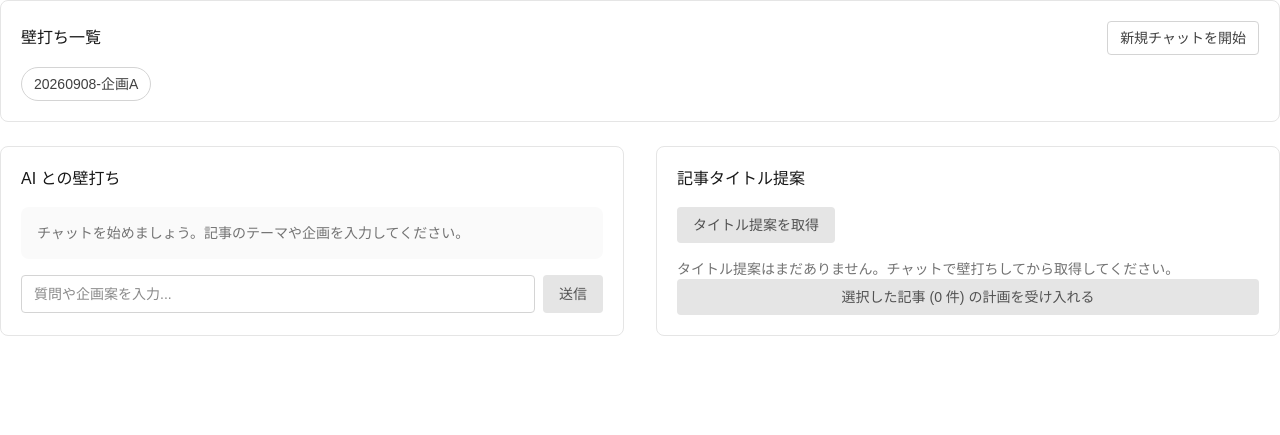
Test: ArticlePlanWorkspace: チャット › セッション一覧の取り直しに失敗しても、返答は表示し、一覧は前のまま
The image size is (1280, 435).
Type "こんにちは" into the field with placeholder "質問や企画案を入力...". click: (278, 294)
box: [21, 275, 535, 313]
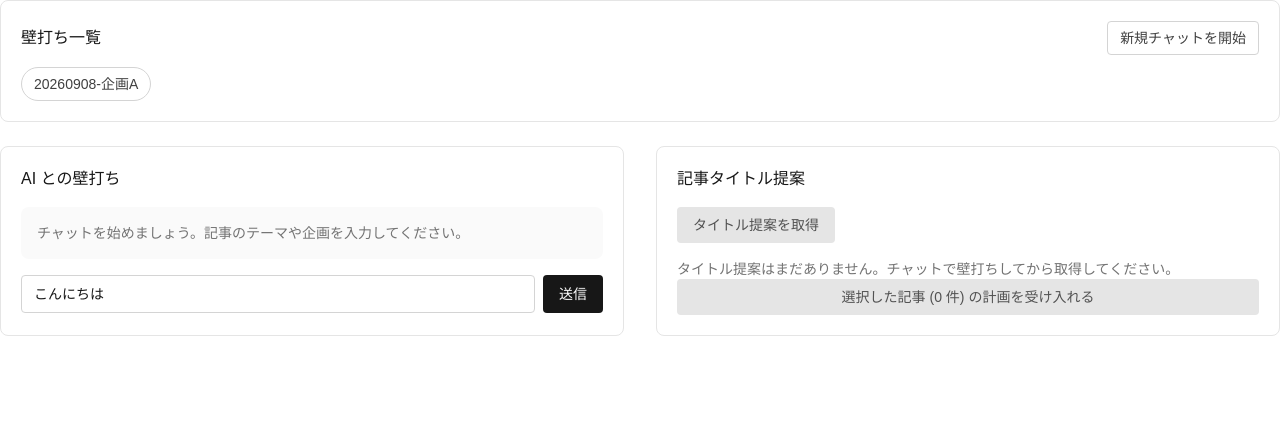
Click the button "送信". click: (573, 294)
box: [543, 275, 603, 313]
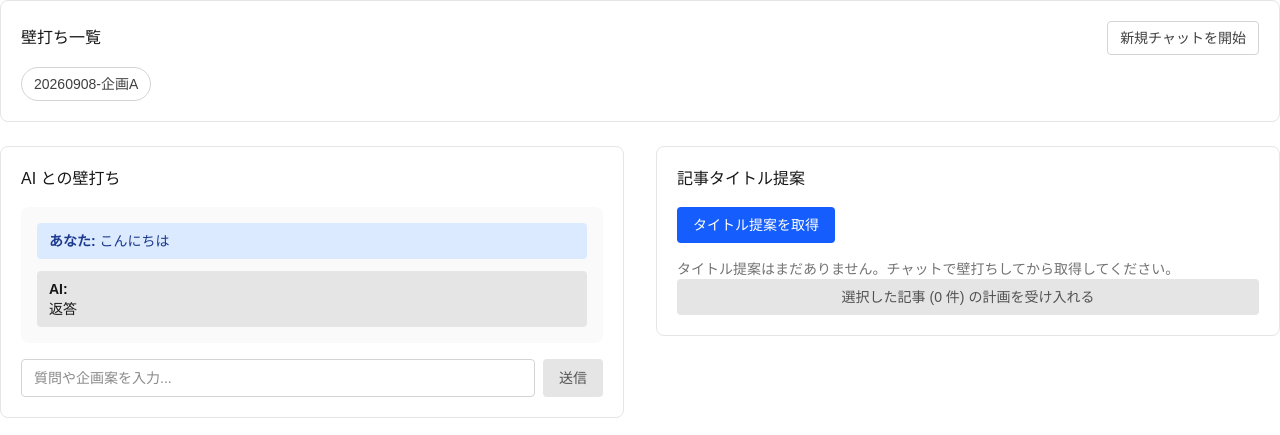
expect the button "20260908-企画A" is shown: met, box [21, 67, 151, 101]
expect the text "返答" is shown: met, box [49, 301, 77, 317]
